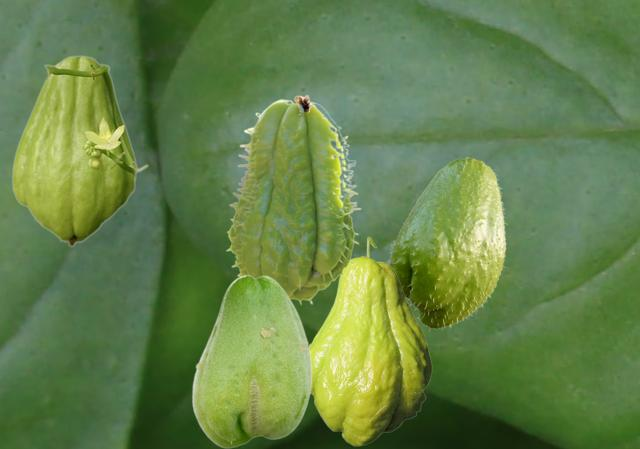sayote: (225, 94, 360, 306), (11, 55, 148, 246), (310, 236, 431, 445), (386, 157, 506, 330), (191, 274, 311, 447)
